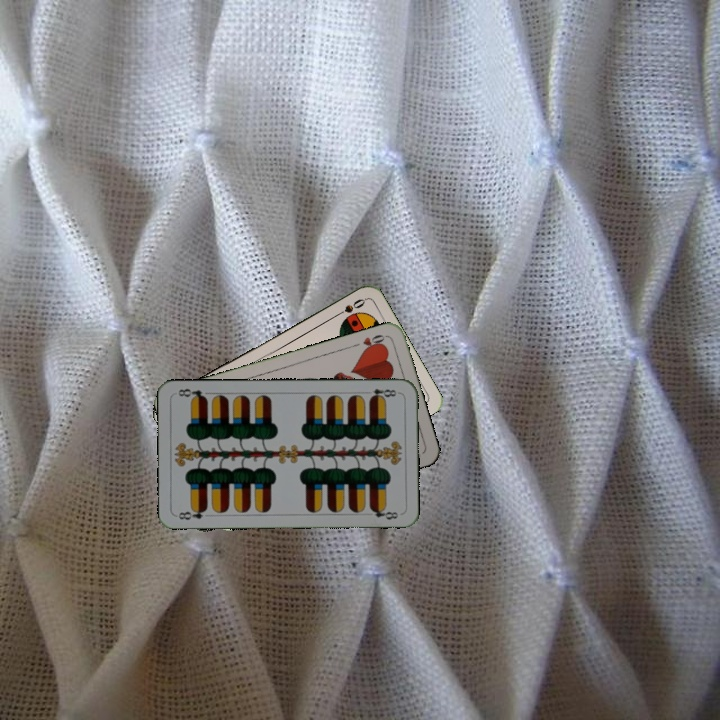E8: (175, 504, 210, 523), (366, 385, 402, 402)
HO: (349, 330, 388, 353)
SO: (330, 295, 368, 320)
